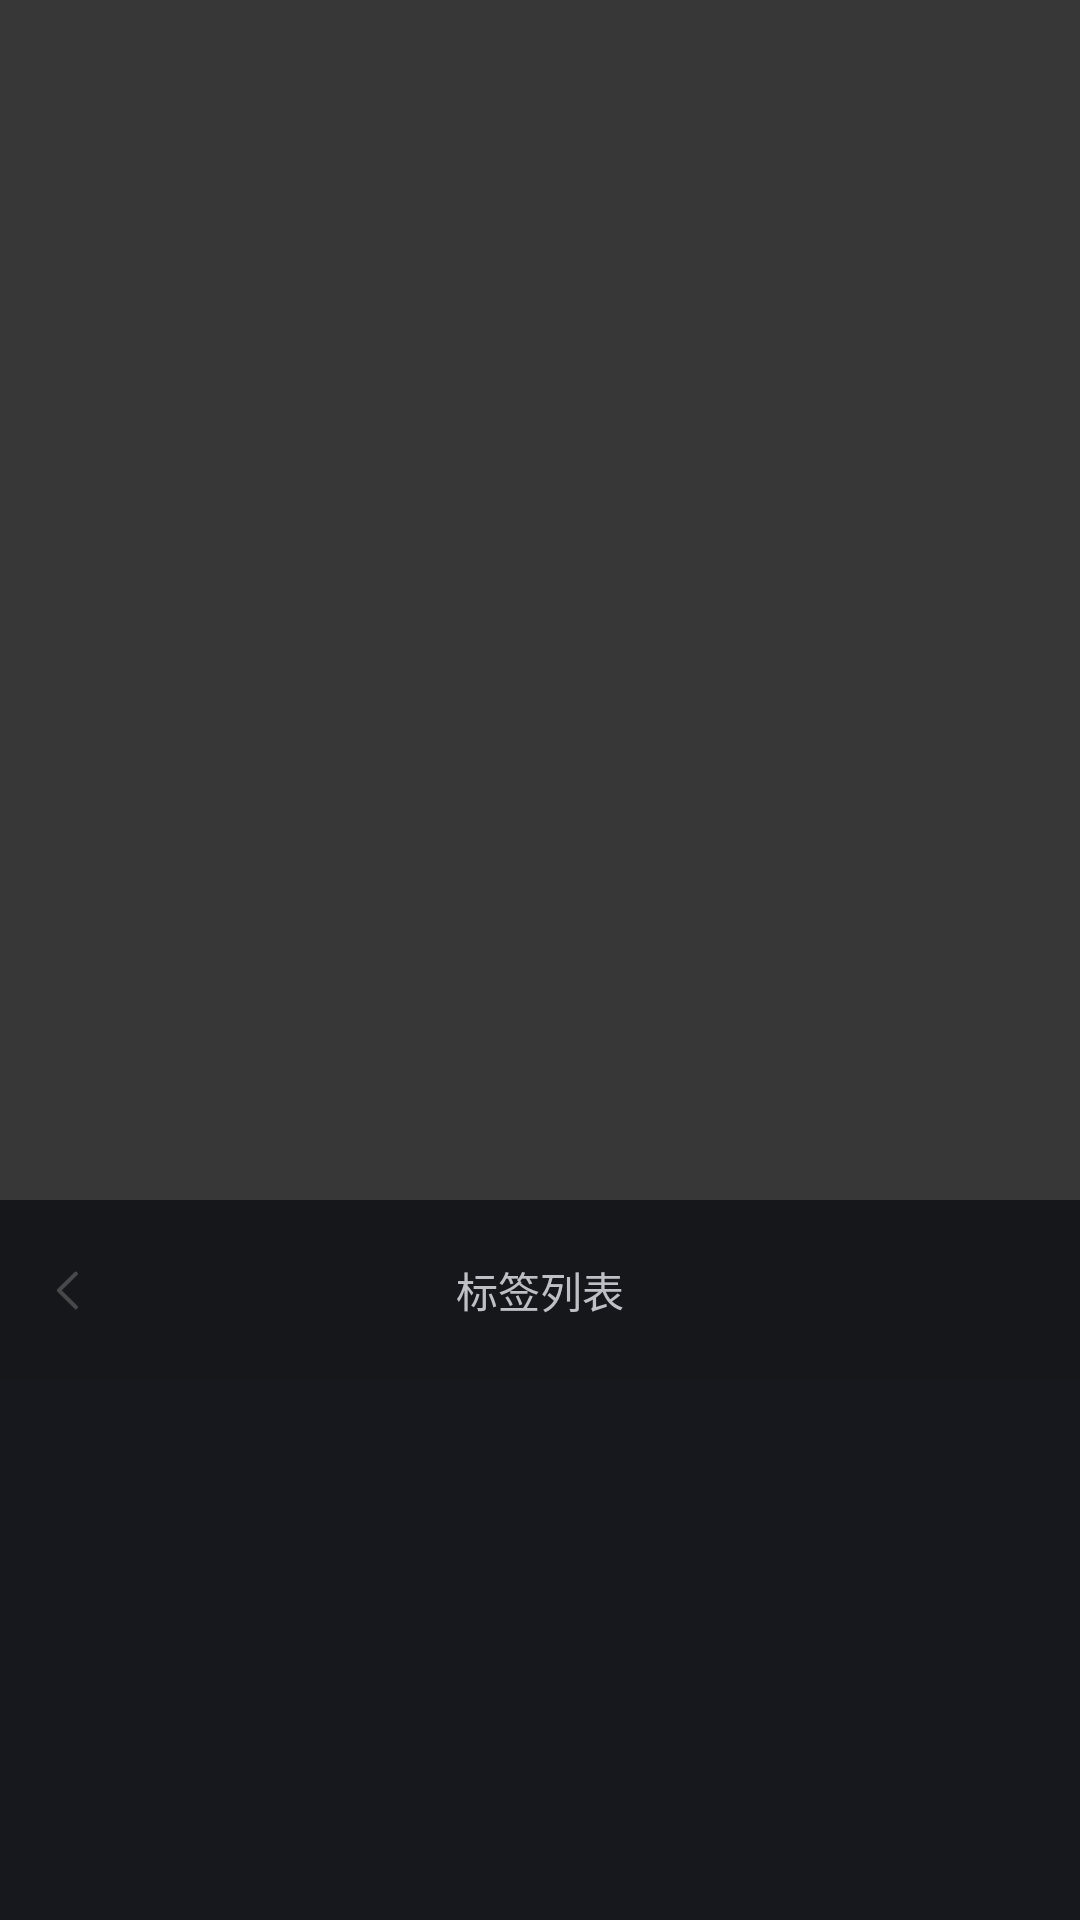

Locate icon controls on the screen. Image size 1080x1920, boxes as (left=x1, top=y1, right=x2, bottom=y2).
popup back: (left=57, top=1272, right=78, bottom=1309)
